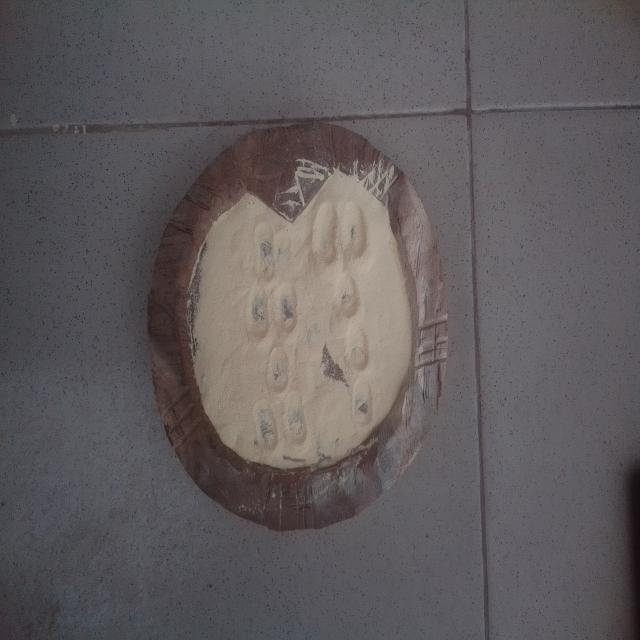double: (312, 196, 374, 267), (242, 284, 302, 342), (254, 392, 306, 452)
single: (250, 219, 278, 280), (345, 318, 372, 376), (335, 273, 364, 320), (268, 342, 292, 396), (352, 380, 378, 428)
